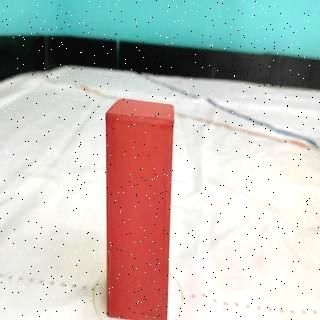redbox: (105, 98, 175, 320)
